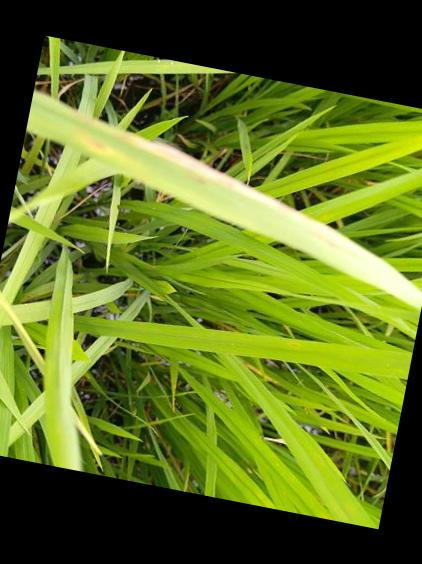Leaf Blight: (25, 90, 422, 313)
